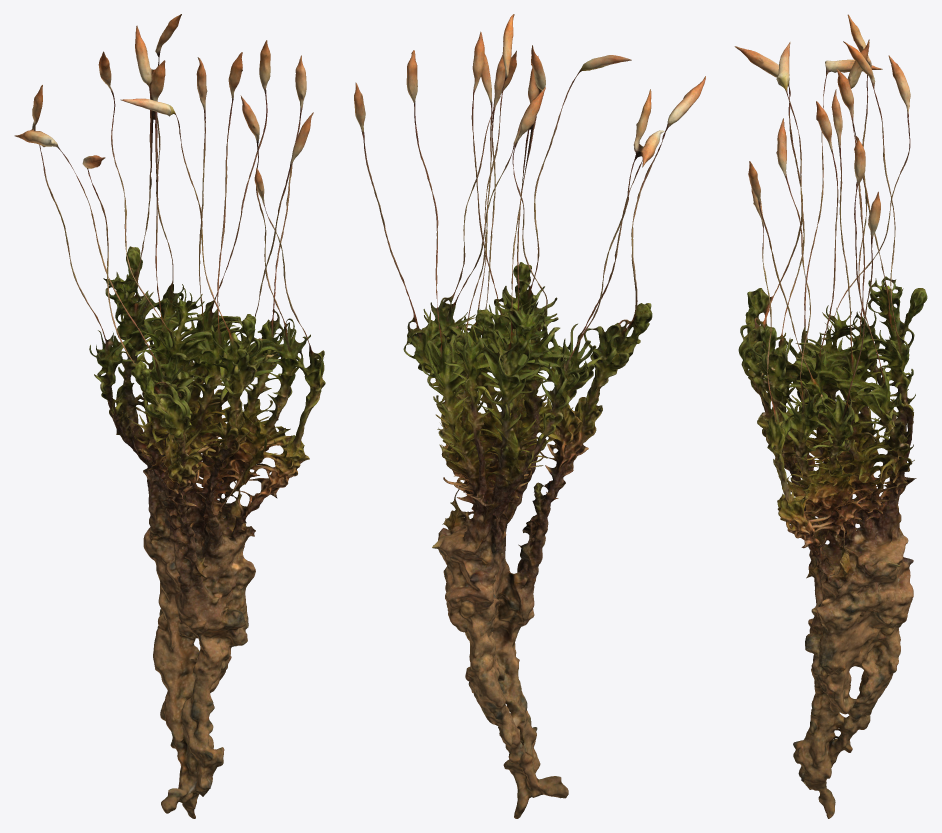
The model's file is moss.glb.
The picture shows the model from 3 angles, left to right: view 1: azimuth 30°, elevation 25°; view 2: azimuth 150°, elevation 25°; view 3: azimuth 270°, elevation 25°; orthographic projection. The views are drawn at different scales.
Visible parts, largest first — view 1: Object_6; view 2: Object_6; view 3: Object_6.
Part boxes in pixels (<box>): Object_6: <box>14,14,325,818</box>; Object_6: <box>354,14,705,818</box>; Object_6: <box>734,14,927,818</box>.
Bounding box in the file's own units: 0.3759 × 1 × 0.2257.
Materials: 1 (1 with a texture image).
